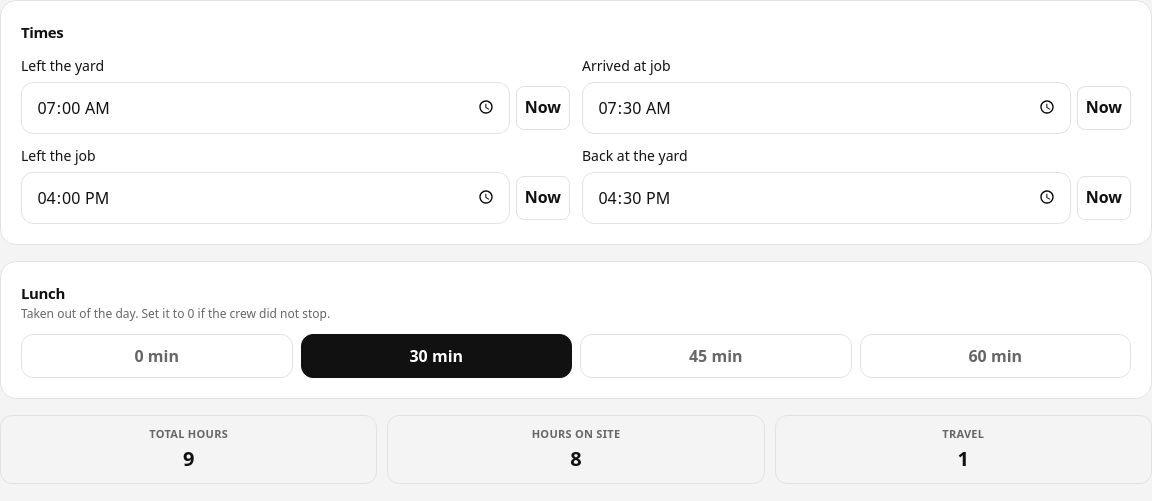
Scenario: entering the day's times › recalculates when the lunch length changes
Expected: the text "9" is shown, top-left (183, 444), bottom-right (194, 472)
Click the radio button labelled "0 min" at (157, 356), box top-left (21, 334), bottom-right (292, 378)
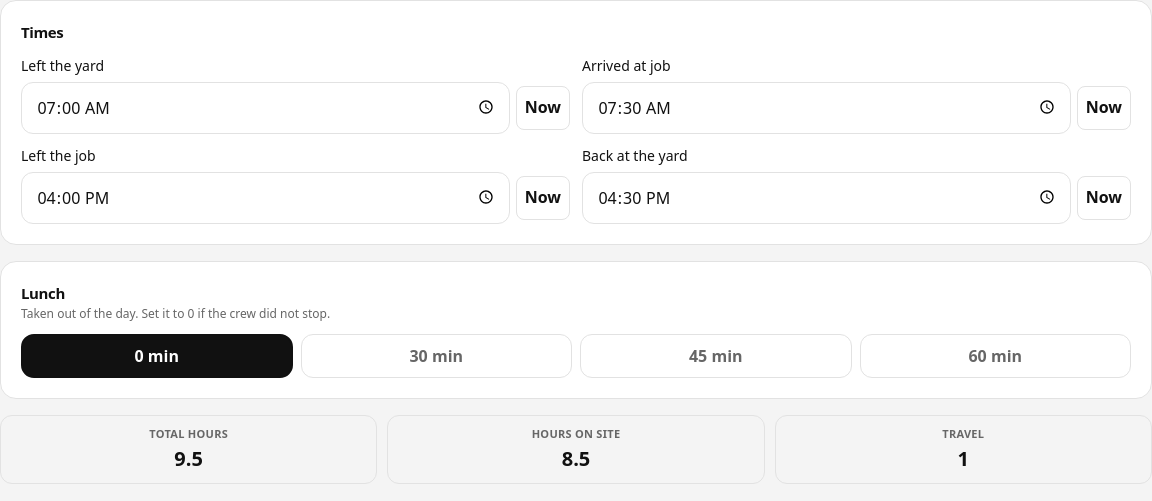
Now the text "9.5" is shown, box top-left (174, 444), bottom-right (203, 472)
Click the radio button labelled "60 min" at (995, 356), box top-left (860, 334), bottom-right (1131, 378)
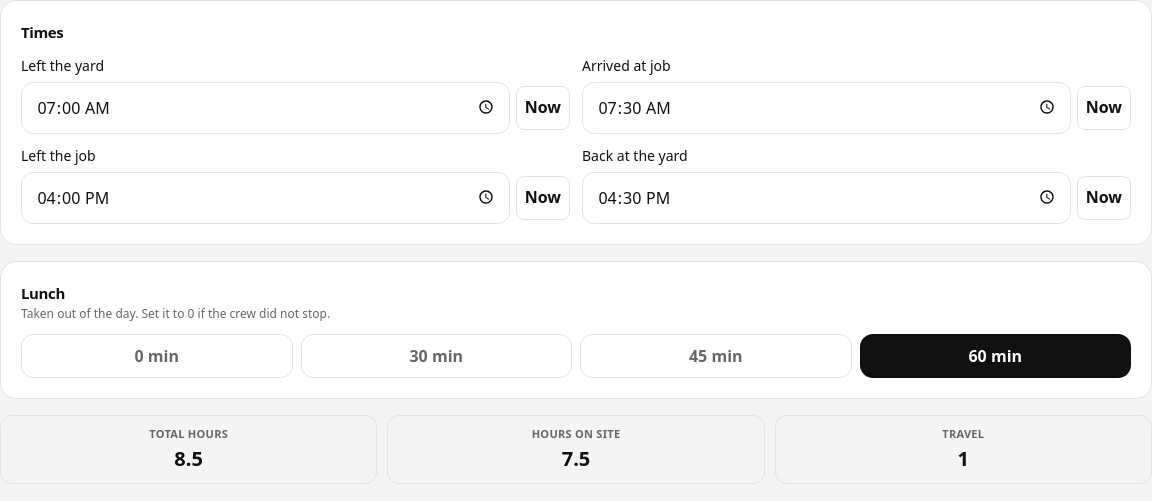
Now the text "8.5" is shown, box top-left (174, 444), bottom-right (203, 472)
